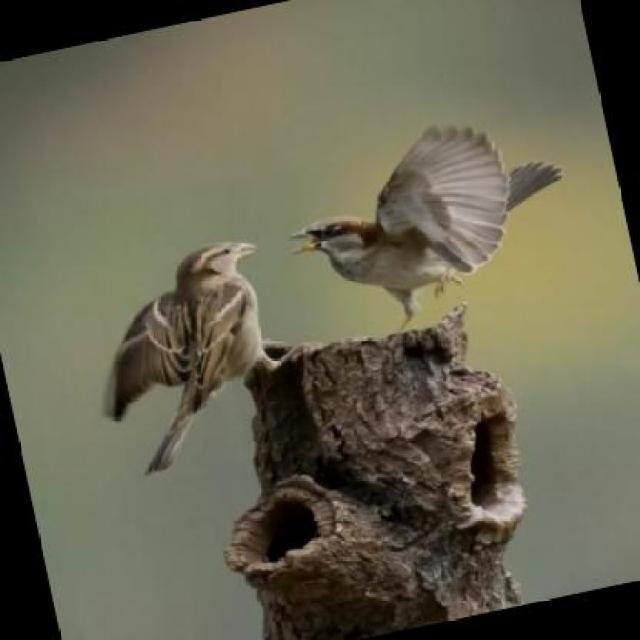Bird: (301, 111, 530, 320), (101, 236, 285, 451)
